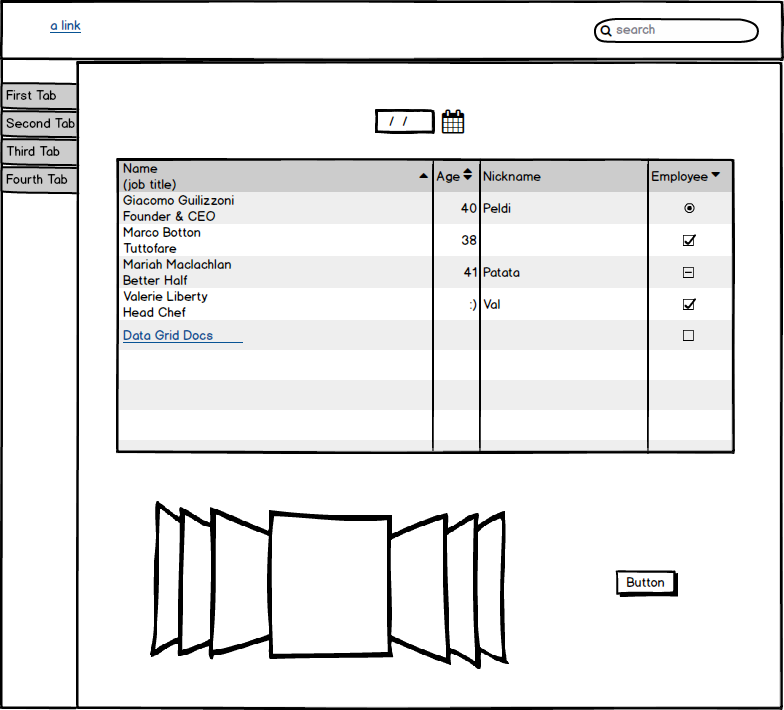button: (606, 566, 688, 599)
date_picker: (366, 100, 473, 141)
navlink: (45, 12, 83, 36)
search: (589, 12, 765, 48)
sidebar: (3, 74, 82, 202)
slideshow: (140, 491, 515, 671)
table: (109, 152, 739, 460)
